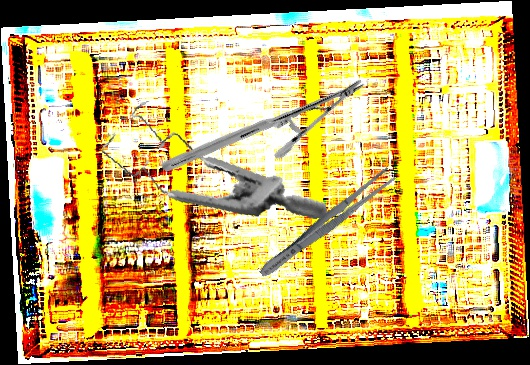Dressing Forceps: (255, 164, 398, 283)
Needle Holder: (158, 14, 368, 237)
Speculum: (95, 73, 328, 254)
